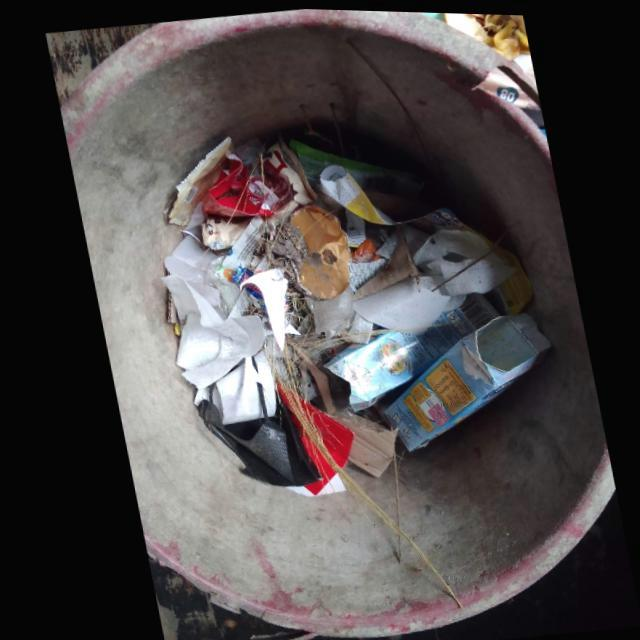cardboard: (271, 381, 348, 494), (319, 406, 391, 475)
food_wrapper: (158, 134, 314, 247)
paper: (348, 227, 514, 332), (156, 234, 259, 387), (187, 350, 270, 423), (233, 271, 297, 350)
